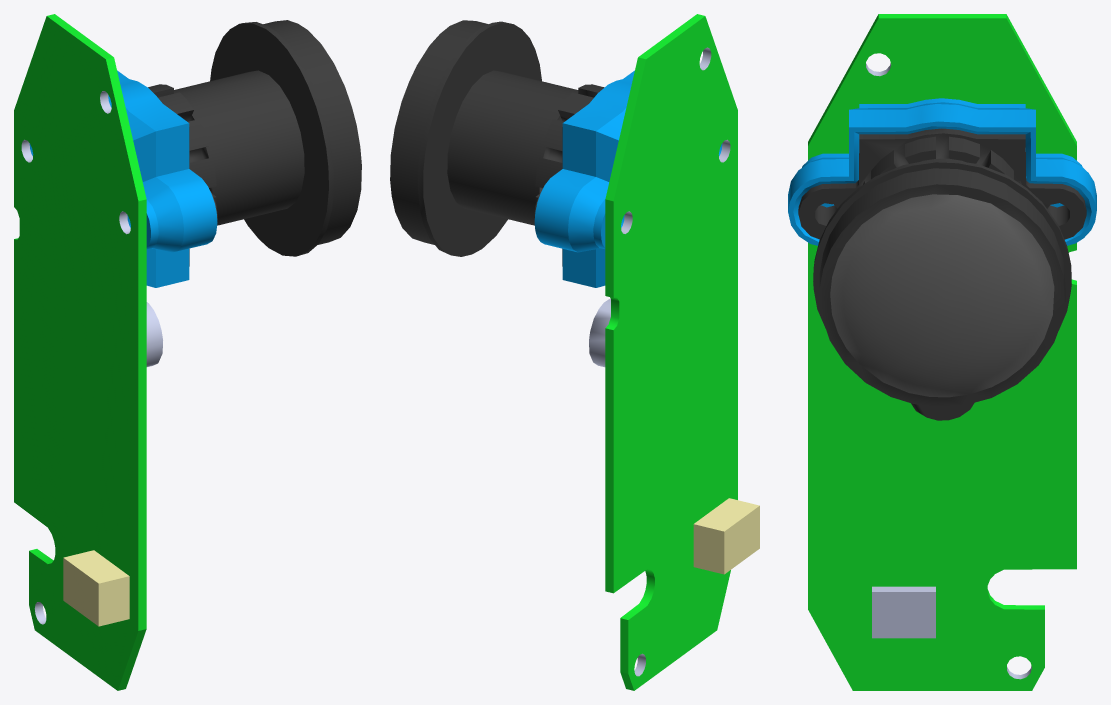
The model's file is Камера logitech BRIO 95 v3.obj.
3 views of the same model, side by side, from view 1: azimuth 30°, elevation 25°; view 2: azimuth 150°, elevation 25°; view 3: azimuth 270°, elevation 25° (orthographic). The views are drawn at different scales.
Parts seen in each view (by area): view 1: Камера_logitech_BRIO_95_v3; view 2: Камера_logitech_BRIO_95_v3; view 3: Камера_logitech_BRIO_95_v3.
Part boxes in pixels (bbox=[...]): Камера_logitech_BRIO_95_v3: bbox=[14, 14, 361, 690]; Камера_logitech_BRIO_95_v3: bbox=[390, 14, 759, 690]; Камера_logitech_BRIO_95_v3: bbox=[788, 14, 1096, 690].
Bounding box in the file's own units: 0.0268 × 0.058 × 0.0241.
